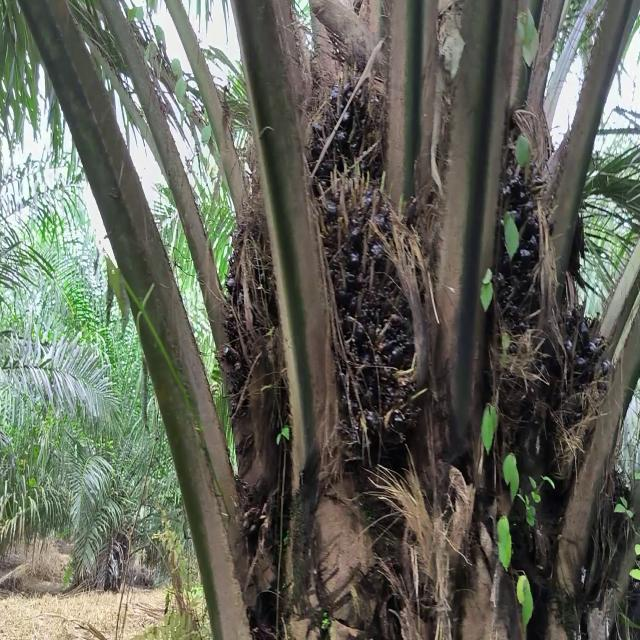palm-oil: (305, 171, 423, 467), (215, 193, 292, 458), (538, 280, 618, 530), (305, 73, 392, 290), (489, 143, 545, 466)
